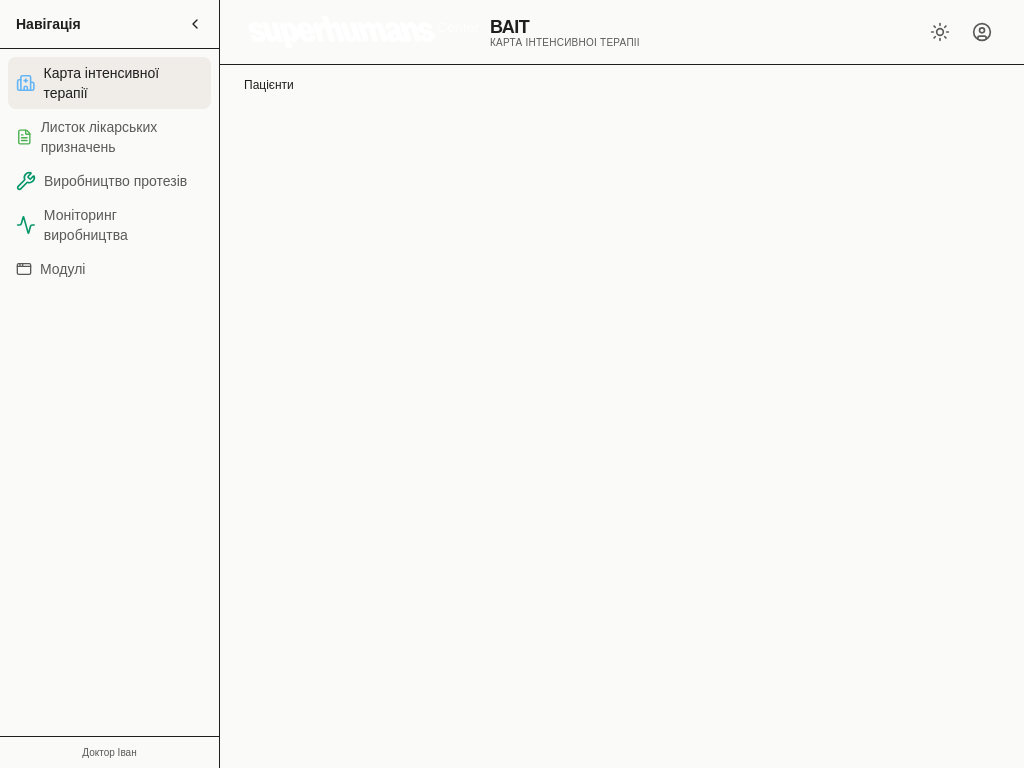
Test: GlobalLayout - header › shows user menu with name and role
Click the button named "Меню користувача" at (982, 32), box [964,14,1000,50]
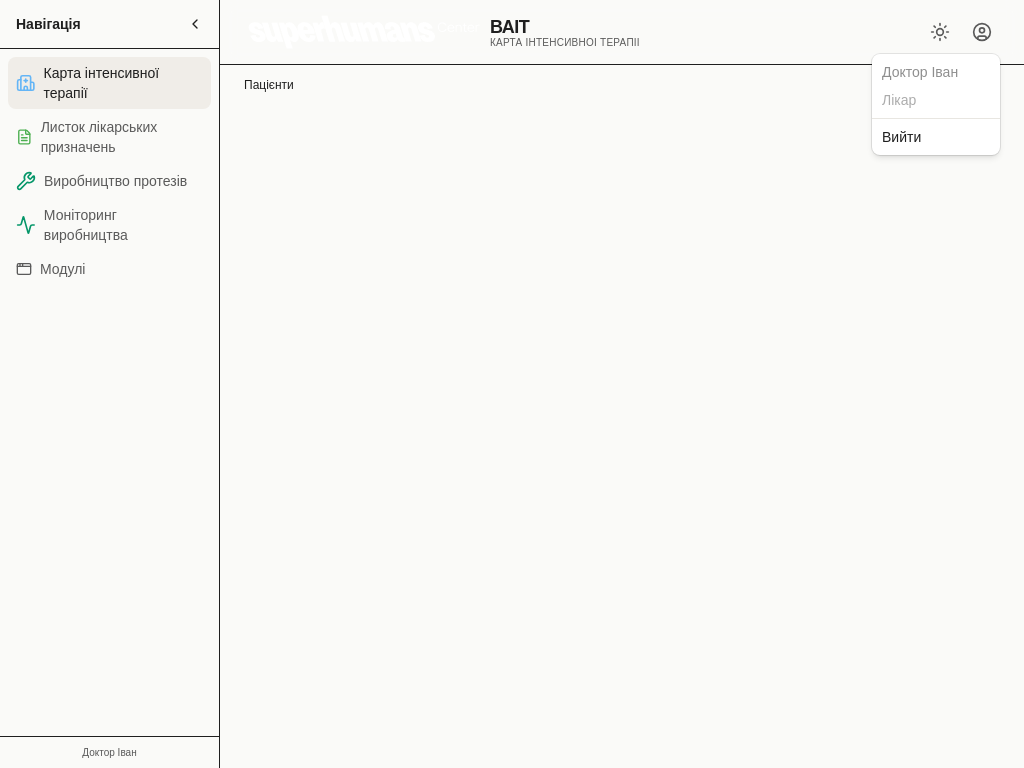
Now the menu item "Лікар" is shown, box [882,92,916,108]
